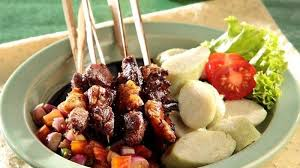sate: (25, 25, 273, 168)
